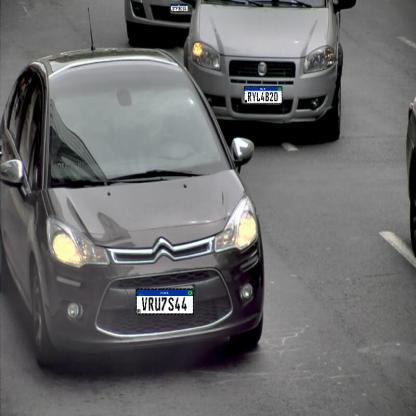PlacaM: (136, 288, 194, 315), (244, 86, 282, 104), (171, 4, 188, 12)
